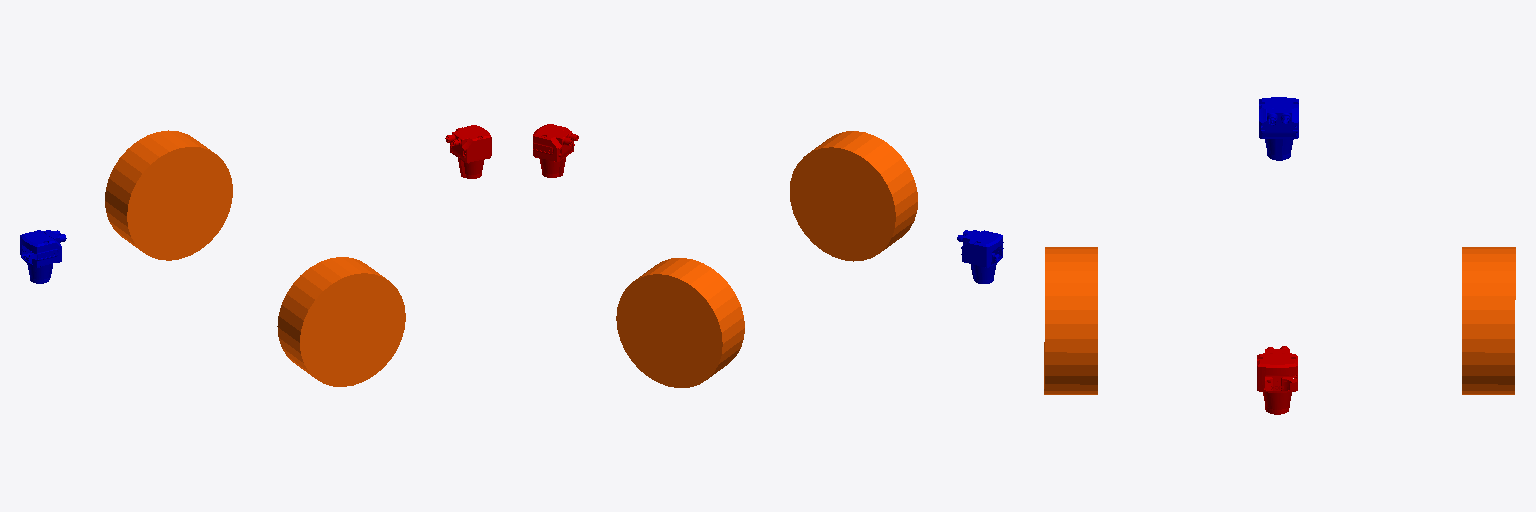
The robot description file, URDF, robot "tway":
<?xml version="1.0" ?>
<!-- =================================================================================== -->
<!-- |    This document was autogenerated by xacro from tway.urdf.xacro                | -->
<!-- |    EDITING THIS FILE BY HAND IS NOT RECOMMENDED                                 | -->
<!-- =================================================================================== -->
<robot name="tway" xmlns:xacro="http://ros.org/wiki/xacro">
  <!-- Init colour -->
  <material name="black">
    <color rgba="0.0 0.0 0.0 1.0"/>
  </material>
  <material name="dark">
    <color rgba="0.3 0.3 0.3 1.0"/>
  </material>
  <material name="light_black">
    <color rgba="0.4 0.4 0.4 1.0"/>
  </material>
  <material name="blue">
    <color rgba="0.0 0.0 0.8 1.0"/>
  </material>
  <material name="green">
    <color rgba="0.0 0.8 0.0 1.0"/>
  </material>
  <material name="grey">
    <color rgba="0.5 0.5 0.5 1.0"/>
  </material>
  <material name="orange">
    <color rgba="1.0 0.423529411765 0.0392156862745 1.0"/>
  </material>
  <material name="brown">
    <color rgba="0.870588235294 0.811764705882 0.764705882353 1.0"/>
  </material>
  <material name="red">
    <color rgba="0.8 0.0 0.0 1.0"/>
  </material>
  <material name="white">
    <color rgba="1.0 1.0 1.0 1.0"/>
  </material>
  <!-- ==============================================================================-->
  <gazebo reference="base_link">
    <material>Gazebo/blue</material>
  </gazebo>
  <gazebo reference="wheel_left_link">
    <mu1>0.1</mu1>
    <!-- // Coefficient of friction in the range of 0..1    //-->
    <mu2>0.1</mu2>
    <!-- // Second Coefficient of friction in the range of 0..1    //-->
    <kp>500000.0e4</kp>
    <!-- // Dynamically "stiffness"-equivalent coefficient for contract joints    //-->
    <kd>10.0e2</kd>
    <!-- // Dynamically "damping"-equivalent coefficient for contact joints //-->
    <minDepth>0.001</minDepth>
    <!-- // Minimum allowable depth before contact correction impulse is applied //-->
    <maxVel>1</maxVel>
    <!-- // Maximum contact correction velocity truncation term  //-->
    <fdir1>1 0 0</fdir1>
    <!-- // 3-tuple specifying direction of mu1 in the collision local reference frame    //-->
    <material>Gazebo/FlatBlack</material>
  </gazebo>
  <!-- ==============================================================================-->
  <gazebo reference="wheel_right_link">
    <mu1>0.1</mu1>
    <mu2>0.1</mu2>
    <kp>500000.0e4</kp>
    <kd>10.0e2</kd>
    <minDepth>0.001</minDepth>
    <maxVel>1</maxVel>
    <fdir1>1 0 0</fdir1>
    <material>Gazebo/FlatBlack</material>
  </gazebo>
  <!-- ==============================================================================-->
  <gazebo reference="caster_back_right_link">
    <mu1>0.1</mu1>
    <mu2>0.1</mu2>
    <kp>1000000.0e2</kp>
    <kd>100.0</kd>
    <minDepth>0.001</minDepth>
    <maxVel>1.0</maxVel>
    <material>Gazebo/FlatBlack</material>
  </gazebo>
  <!-- ==============================================================================-->
  <gazebo reference="caster_back_left_link">
    <mu1>0.1</mu1>
    <mu2>0.1</mu2>
    <kp>1000000.0e2</kp>
    <kd>100.0</kd>
    <minDepth>0.001</minDepth>
    <maxVel>1.0</maxVel>
    <material>Gazebo/FlatBlack</material>
  </gazebo>
  <!-- ==============================================================================-->
  <gazebo reference="caster_front_left_link">
    <mu1>0.1</mu1>
    <mu2>0.1</mu2>
    <kp>1000000.0e2</kp>
    <kd>100.0</kd>
    <minDepth>0.001</minDepth>
    <maxVel>1.0</maxVel>
    <material>Gazebo/FlatBlack</material>
  </gazebo>
  <!-- ==============================================================================-->
  <gazebo reference="caster_front_left_link">
    <mu1>0.1</mu1>
    <mu2>0.1</mu2>
    <kp>1000000.0e2</kp>
    <kd>100.0</kd>
    <minDepth>0.001</minDepth>
    <maxVel>1.0</maxVel>
    <material>Gazebo/FlatBlack</material>
  </gazebo>
  <!-- ==============================================================================-->
  <gazebo reference="imu_link">
    <sensor name="imu" type="imu">
      <always_on>true</always_on>
      <visualize>false</visualize>
    </sensor>
    <material>Gazebo/Grey</material>
  </gazebo>
  <!-- ==============================================================================-->
  <gazebo>
    <plugin filename="libgazebo_ros_diff_drive.so" name="tway_controller">
      <!-- //Library file   //-->
      <commandTopic>cmd_vel</commandTopic>
      <odometryTopic>odom</odometryTopic>
      <odometryFrame>odom</odometryFrame>
      <robotBaseFrame>base_footprint</robotBaseFrame>
      <publishWheelTF>false</publishWheelTF>
      <publishTf>true</publishTf>
      <publishWheelJointState>true</publishWheelJointState>
      <legacyMode>false</legacyMode>
      <updateRate>30</updateRate>
      <leftJoint>wheel_left_joint</leftJoint>
      <rightJoint>wheel_right_joint</rightJoint>
      <wheelSeparation>0.7</wheelSeparation>
      <!-- // Distance between 2 active wheels    //-->
      <wheelDiameter>0.22</wheelDiameter>
      <!-- // Diameter of 2 active wheels   //-->
      <wheelAcceleration>10</wheelAcceleration>
      <wheelTorque>5000</wheelTorque>
      <!-- // Wheel Torque   //-->
      <rosDebugLevel>na</rosDebugLevel>
    </plugin>
  </gazebo>
  <!-- ==============================================================================-->
  <gazebo>
    <plugin filename="libgazebo_ros_imu.so" name="imu_plugin">
      <alwaysOn>true</alwaysOn>
      <bodyName>imu_link</bodyName>
      <topicName>imu</topicName>
      <serviceName>imu_service</serviceName>
      <gaussianNoise>0.0</gaussianNoise>
      <updateRate>200</updateRate>
      <imu>
        <noise>
          <type>gaussian</type>
          <rate>
            <mean>0.0</mean>
            <stddev>2e-4</stddev>
            <bias_mean>0.0000075</bias_mean>
            <bias_stddev>0.0000008</bias_stddev>
          </rate>
          <accel>
            <mean>0.0</mean>
            <stddev>1.7e-2</stddev>
            <bias_mean>0.1</bias_mean>
            <bias_stddev>0.001</bias_stddev>
          </accel>
        </noise>
      </imu>
    </plugin>
  </gazebo>
  <!-- ==============================================================================-->
  <gazebo reference="base_scan">
    <material>Gazebo/Red</material>
    <sensor name="lds_lfcd_sensor" type="ray">
      <pose>0 0 0 0 0 0</pose>
      <!-- //a position and orientation with respect to the specified frame //-->
      <visualize>true</visualize>
      <!-- //show laser lines or not //-->
      <ray>
        <scan>
          <horizontal>
            <samples>720</samples>
            <!-- //the number of simulated rays to generate per complete laser sweep cycle//-->
            <resolution>0.33</resolution>
            <!-- //This number is multiplied by samples to determine the number of range data points returned. -->
            <!-- If the resolution is less than one, range data is interpolated. -->
            <!--If resolution is greater than one, range data is averaged//-->
            <min_angle>0.0</min_angle>
            <max_angle>6.28</max_angle>
          </horizontal>
        </scan>
        <range>
          <!-- //Range of LiDAR//-->
          <min>0.120</min>
          <max>10.5</max>
          <resolution>0.015</resolution>
        </range>
        <noise>
          <type>gaussian</type>
          <mean>0.0</mean>
          <stddev>0.01</stddev>
        </noise>
      </ray>
      <plugin filename="libgazebo_ros_laser.so" name="gazebo_ros_lds_lfcd_controller">
        <topicName>scan</topicName>
        <frameName>base_scan</frameName>
        <update_rate>1800</update_rate>
      </plugin>
    </sensor>
  </gazebo>
  <!-- ==============================================================================-->
  <gazebo reference="camera_rgb_frame">
    <sensor name="realsense_R200" type="depth">
      <always_on>true</always_on>
      <visualize>false</visualize>
      <camera>
        <horizontal_fov>1.3439</horizontal_fov>
        <image>
          <width>1920</width>
          <height>1080</height>
          <format>R8G8B8</format>
        </image>
        <depth_camera/>
        <clip>
          <near>0.03</near>
          <far>100</far>
        </clip>
      </camera>
      <plugin filename="libgazebo_ros_openni_kinect.so" name="camera_controller">
        <baseline>0.2</baseline>
        <alwaysOn>true</alwaysOn>
        <updateRate>30.0</updateRate>
        <cameraName>camera</cameraName>
        <frameName>camera_rgb_optical_frame</frameName>
        <imageTopicName>rgb/image_raw</imageTopicName>
        <depthImageTopicName>depth/image_raw</depthImageTopicName>
        <pointCloudTopicName>depth/points</pointCloudTopicName>
        <cameraInfoTopicName>rgb/camera_info</cameraInfoTopicName>
        <depthImageCameraInfoTopicName>depth/camera_info</depthImageCameraInfoTopicName>
        <pointCloudCutoff>0.4</pointCloudCutoff>
        <hackBaseline>0.07</hackBaseline>
        <distortionK1>0.0</distortionK1>
        <distortionK2>0.0</distortionK2>
        <distortionK3>0.0</distortionK3>
        <distortionT1>0.0</distortionT1>
        <distortionT2>0.0</distortionT2>
        <CxPrime>0.0</CxPrime>
        <Cx>0.0</Cx>
        <Cy>0.0</Cy>
        <focalLength>0</focalLength>
        <hackBaseline>0</hackBaseline>
      </plugin>
    </sensor>
  </gazebo>
  <!-- ==============================================================================-->
  <!-- ================================================================-->
  <!-- ================================================================-->
  <!--First, we have to Describe Tway Base (body) and its foot print -->
  <link name="base_footprint"/>
  <joint name="base_joint" type="fixed">
    <parent link="base_footprint"/>
    <child link="base_link"/>
    <origin rpy="0 0 0" xyz="0 0 0.0"/>
  </joint>
  <!-- ================================================================-->
  <link name="base_link">
    <visual>
      <origin rpy="1.57 0 0" xyz="-0.52 0.82 -0.22"/>
      <geometry>
        <mesh filename="package://tway_description/meshes/bases/tway_base.stl" scale="0.001 0.001 0.001"/>
      </geometry>
      <material name="grey"/>
    </visual>
    <collision>
      <origin rpy="0 0 0" xyz="0 0.0 0.16"/>
      <geometry>
        <box size="0.8 1.0 0.3"/>
      </geometry>
    </collision>
    <inertial>
      <origin rpy="0 0 0" xyz="0 0 0"/>
      <mass value="300e+00"/>
      <inertia ixx="19.61" ixy="-4.7576583e-05" ixz="1.1160499e-04" iyy="28.61" iyz="-3.5422299e-06" izz="41"/>
    </inertial>
  </link>
  <!-- ================================================================-->
  <!-- //////////////////////Wheel part. Tway has 2 Wheels /////////////////////////-->
  <!--Second, We describe Left and Right Wheel  -->
  <joint name="wheel_left_joint" type="continuous">
    <parent link="base_link"/>
    <child link="wheel_left_link"/>
    <origin rpy="1.57 0 0" xyz="0.0 -0.31 0.10"/>
    <axis xyz="0 0 1"/>
  </joint>
  <link name="wheel_left_link">
    <visual>
      <origin rpy="0 0 0" xyz="0 0 0"/>
      <geometry>
        <!--<mesh filename="package://tway_description/meshes/wheels/left_tire.stl" scale="0.001 0.001 0.001"/> -->
        <cylinder length="0.08" radius="0.11"/>
      </geometry>
      <material name="orange"/>
    </visual>
    <collision>
      <origin rpy="0 0 0" xyz="0 0.001 0"/>
      <geometry>
        <cylinder length="0.08" radius="0.11"/>
      </geometry>
    </collision>
    <inertial>
      <origin xyz="0 0 0"/>
      <mass value="21"/>
      <inertia ixx="0.154" ixy="-4.2369783e-8" ixz="-5.9381719e-07" iyy="0.056" iyz="-1.4400107e-8" izz="0.132"/>
    </inertial>
  </link>
  <!-- ================================================================-->
  <joint name="wheel_right_joint" type="continuous">
    <parent link="base_link"/>
    <child link="wheel_right_link"/>
    <origin rpy="1.57 0 0" xyz="0.0 0.31 0.10"/>
    <axis xyz="0 0 1"/>
  </joint>
  <link name="wheel_right_link">
    <visual>
      <origin rpy="0 0 0" xyz="0 0 0"/>
      <geometry>
        <!--<mesh filename="package://tway_description/meshes/wheels/main_right_wheel.stl" scale="0.001 0.001 0.001"/>  -->
        <cylinder length="0.08" radius="0.11"/>
      </geometry>
      <material name="orange"/>
    </visual>
    <collision>
      <origin rpy="0 0 0" xyz="0 0.001 0"/>
      <geometry>
        <cylinder length="0.08" radius="0.11"/>
      </geometry>
    </collision>
    <inertial>
      <origin xyz="0 0 0"/>
      <mass value="21"/>
      <inertia ixx="0.154" ixy="-4.2369783e-8" ixz="-5.9381719e-07" iyy="0.056" iyz="-1.4400107e-8" izz="0.132"/>
    </inertial>
  </link>
  <!-- //////////////////////CARTER part. Tway has 4 CARTERS /////////////////////////-->
  <!-- ================================================================-->
  <joint name="caster_back_right_joint" type="fixed">
    <parent link="base_link"/>
    <child link="caster_back_right_link"/>
    <origin rpy="-1.57 0 0" xyz="0.4 0.31 0.05"/>
  </joint>
  <link name="caster_back_right_link">
    <collision>
      <origin rpy="0 0 0" xyz="0 0.001 0.1"/>
      <geometry>
        <box size="0.050 0.015 0.1"/>
      </geometry>
      <material name="red"/>
    </collision>
    <inertial>
      <origin xyz="0 0 0"/>
      <mass value="1"/>
      <inertia ixx="0.01" ixy="0.0" ixz="0.0" iyy="0.01" iyz="0.0" izz="0.01"/>
    </inertial>
  </link>
  <!-- ================================================================-->
  <joint name="caster_back_left_joint" type="fixed">
    <parent link="base_link"/>
    <child link="caster_back_left_link"/>
    <origin rpy="-1.57 0 0" xyz="0.4 -0.31 0.05 "/>
  </joint>
  <link name="caster_back_left_link">
    <collision>
      <origin rpy="0 0 0" xyz="0 0.001 0.1"/>
      <geometry>
        <box size="0.050 0.015 0.1"/>
      </geometry>
      <material name="blue"/>
    </collision>
    <inertial>
      <origin xyz="0 0 0"/>
      <mass value="1"/>
      <inertia ixx="0.01" ixy="0.0" ixz="0.0" iyy="0.01" iyz="0.0" izz="0.01"/>
    </inertial>
  </link>
  <!-- ================================================================-->
  <joint name="caster_front_right_joint" type="fixed">
    <parent link="base_link"/>
    <child link="caster_front_right_link"/>
    <origin rpy="-1.57 0 0" xyz="-0.4 0.31 0.05"/>
  </joint>
  <link name="caster_front_right_link">
    <collision>
      <origin rpy="0 0 0" xyz="0 0.001 0.1"/>
      <geometry>
        <box size="0.050 0.015 0.1"/>
      </geometry>
      <material name="red"/>
    </collision>
    <inertial>
      <origin xyz="0 0 0"/>
      <mass value="1"/>
      <inertia ixx="0.01" ixy="0.0" ixz="0.0" iyy="0.01" iyz="0.0" izz="0.01"/>
    </inertial>
  </link>
  <!-- ================================================================-->
  <joint name="caster_front_left_joint" type="fixed">
    <parent link="base_link"/>
    <child link="caster_front_left_link"/>
    <origin rpy="-1.57 0 0" xyz="-0.4 -0.31 0.05"/>
  </joint>
  <link name="caster_front_left_link">
    <collision>
      <origin rpy="0 0 0" xyz="0 0.001 0.1"/>
      <geometry>
        <box size="0.050 0.015 0.1"/>
      </geometry>
      <material name="blue"/>
    </collision>
    <inertial>
      <origin xyz="0 0 0"/>
      <mass value="1"/>
      <inertia ixx="0.01" ixy="0.0" ixz="0.0" iyy="0.01" iyz="0.0" izz="0.01"/>
    </inertial>
  </link>
  <!-- ================================================================-->
  <joint name="imu_joint" type="fixed">
    <parent link="base_link"/>
    <child link="imu_link"/>
    <origin rpy="0 0 0" xyz="0.0 0 0.068"/>
  </joint>
  <link name="imu_link"/>
  <!-- ================================================================-->
  <joint name="scan_joint" type="fixed">
    <parent link="base_link"/>
    <child link="base_scan"/>
    <origin rpy="0 0 0" xyz="0.4 -0.035 0.250"/>
  </joint>
  <link name="base_scan">
    <visual>
      <origin rpy="-1.57 0 0" xyz="0 0 0"/>
      <geometry>
        <mesh filename="package://tway_description/meshes/sensors/sick551.stl" scale="0.001 0.001 0.001"/>
      </geometry>
      <material name="red"/>
    </visual>
    <collision>
      <origin rpy="0 0 0" xyz="0 0 0"/>
      <geometry>
        <cylinder length="0.0315" radius="0.055"/>
      </geometry>
    </collision>
    <inertial>
      <mass value="0.114"/>
      <origin xyz="0 0 0"/>
      <inertia ixx="0.001" ixy="0.0" ixz="0.0" iyy="0.001" iyz="0.0" izz="0.001"/>
    </inertial>
  </link>
  <!-- ================================================================-->
  <joint name="scan_joint_back" type="fixed">
    <parent link="base_link"/>
    <child link="base_scan_back"/>
    <origin rpy="0 0 0" xyz="-0.4 0.03 0.25"/>
  </joint>
  <link name="base_scan_back">
    <visual>
      <origin rpy="-1.57 0 3.14" xyz="0 0.0 0.0"/>
      <geometry>
        <mesh filename="package://tway_description/meshes/sensors/sick551.stl" scale="0.001 0.001 0.001"/>
      </geometry>
      <material name="blue"/>
    </visual>
    <collision>
      <origin rpy="0 0 0" xyz="0 0 0"/>
      <geometry>
        <cylinder length="0.0315" radius="0.055"/>
      </geometry>
    </collision>
    <inertial>
      <mass value="0.114"/>
      <origin xyz="0 0 0"/>
      <inertia ixx="0.001" ixy="0.0" ixz="0.0" iyy="0.001" iyz="0.0" izz="0.001"/>
    </inertial>
  </link>
  <!-- ================================================================-->
</robot>

--- What the picture shows (computed from the rendered views, not written in the file) ---
3 views of the same robot in one strip: view 1: azimuth 30°, elevation 25°; view 2: azimuth 150°, elevation 25°; view 3: azimuth 270°, elevation 25° (orthographic).
Robot: tway — 11 links, 10 joints (2 continuous, 8 fixed); root link base_footprint; default pose: all joints at 0.
Visible links, largest first — view 1: wheel_left_link, wheel_right_link, base_scan_back, base_scan; view 2: wheel_left_link, wheel_right_link, base_scan_back, base_scan; view 3: wheel_left_link, wheel_right_link, base_scan, base_scan_back.
Link boxes in pixels (box(x1,y1,x2,y2)): wheel_left_link: box(277, 257, 405, 386); wheel_right_link: box(105, 130, 232, 260); base_scan_back: box(20, 230, 66, 283); base_scan: box(445, 125, 491, 178); wheel_left_link: box(790, 131, 917, 261); wheel_right_link: box(616, 258, 744, 387); base_scan_back: box(957, 230, 1003, 283); base_scan: box(533, 124, 578, 177); wheel_left_link: box(1044, 247, 1097, 394); wheel_right_link: box(1462, 247, 1515, 394); base_scan: box(1257, 346, 1297, 414); base_scan_back: box(1259, 97, 1298, 160).
Size in the robot's own frame: 0.9527 by 0.7002 by 0.258 metres.
Meshes: 2 distinct files referenced, 2 mesh visuals loaded (1 binary STL); not drawn: 1 (reference not matched to a file when rendering).
